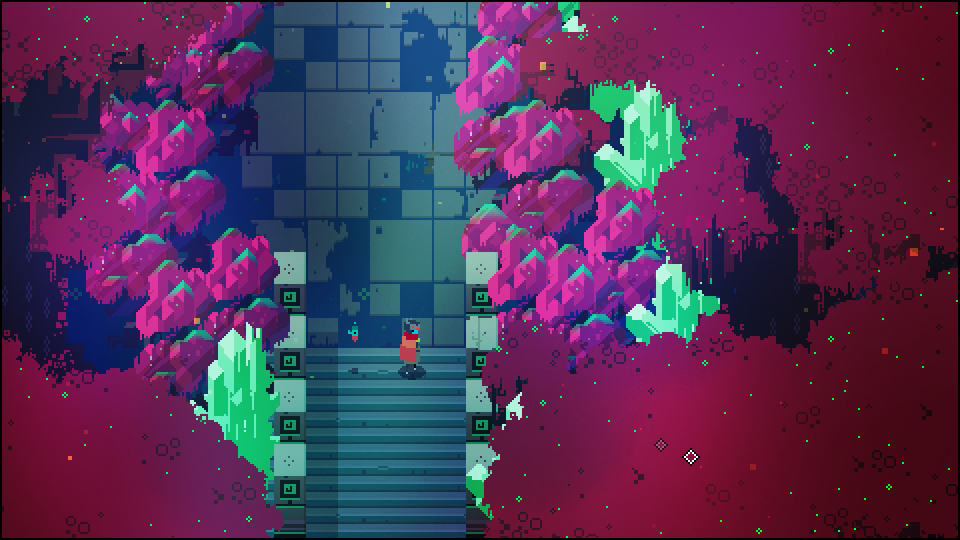player: (395, 317, 423, 382)
